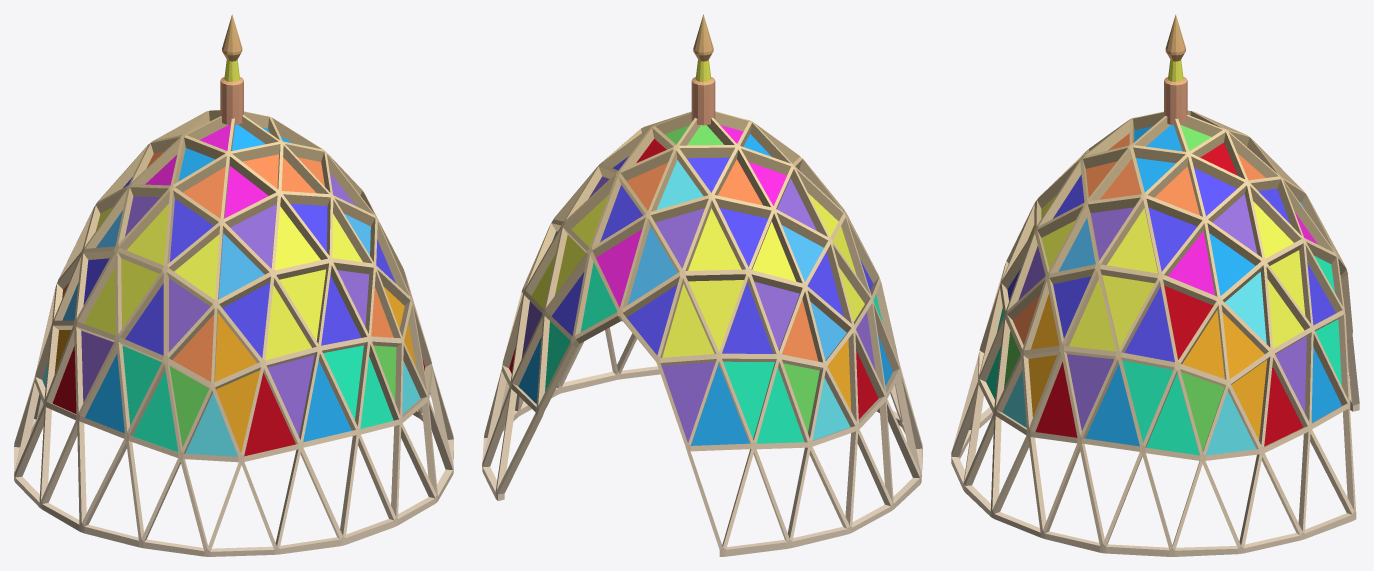
Rendered from ETC0110011.fbx.
3 renders of one model, left to right at view 1: azimuth 30°, elevation 25°; view 2: azimuth 150°, elevation 25°; view 3: azimuth 270°, elevation 25°, orthographic.
Parts seen in each view (by area): view 1: smETC0110011; view 2: smETC0110011; view 3: smETC0110011.
Part boxes in pixels (x1=…): smETC0110011: x1=14, y1=14, x2=453, y2=556; smETC0110011: x1=482, y1=14, x2=922, y2=556; smETC0110011: x1=951, y1=14, x2=1359, y2=556.
Size of what is drawn, in the model's own units: 551 by 618 by 510.
Materials: 1 (1 with a texture image).
